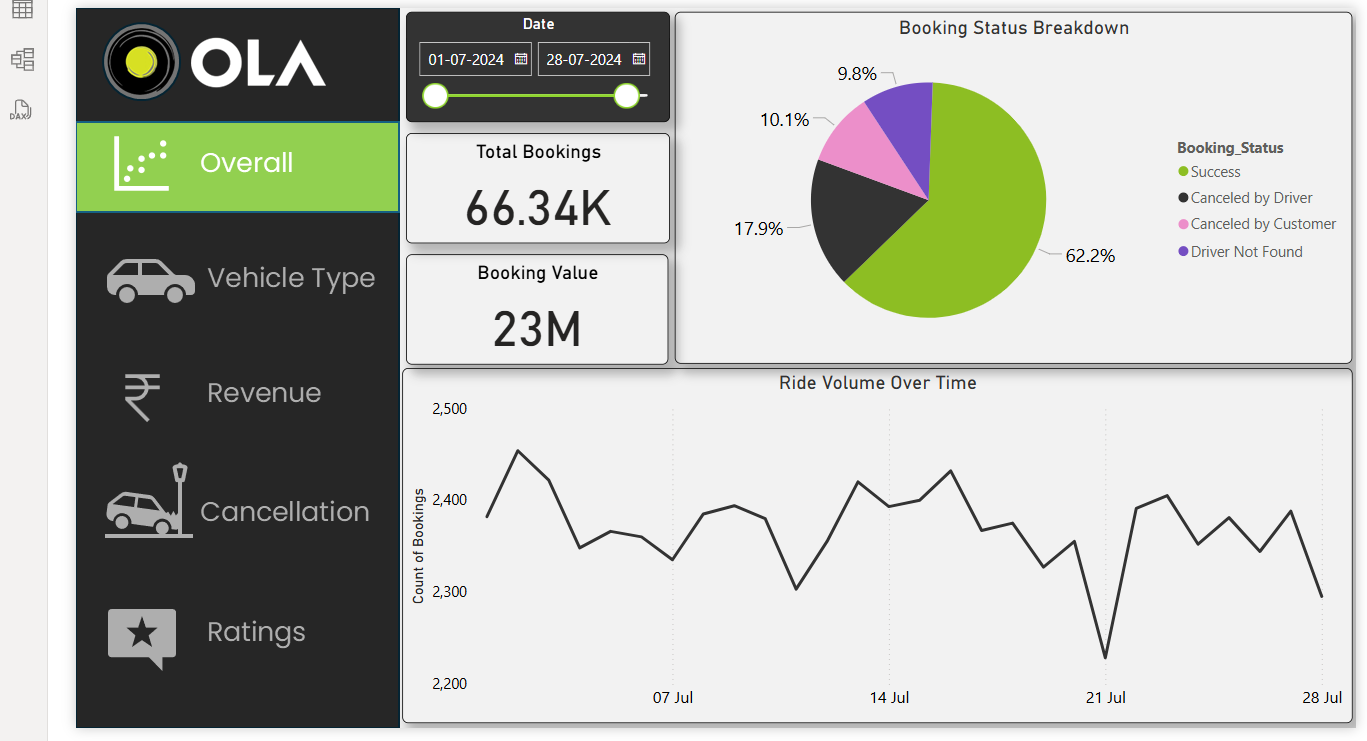

This screenshot's page, from the dashboard's own definition file:
{"tool":"powerbi","page":{"name":"Overall","canvas":[1280,720],"ordinal":0},"visuals":[{"type":"actionButton","box":[0,215.7,324.8,101.9],"z":0},{"type":"actionButton","box":[0,335.6,324.8,94.7],"z":1000},{"type":"actionButton","box":[0,445.8,324.8,103.1],"z":2000},{"type":"actionButton","box":[1.2,572.9,324.8,104.3],"z":3000},{"type":"lineChart","title":"Ride Volume Over Time","fields":{"Y":["CountNonNull(July.Booking_ID)"],"Category":["July.Date"]},"box":[326,360,950,354.9],"z":4000},{"type":"pieChart","title":"Booking Status Breakdown","fields":{"Category":["July.Booking_Status"],"Y":["CountNonNull(July.Booking_Status)"]},"box":[598.8,3.8,677.5,352],"z":5000},{"type":"slicer","title":"Date","fields":{"Values":["July.Date"]},"box":[330,3.8,263.8,110],"z":6000},{"type":"card","title":"Total Bookings","fields":{"Values":["CountNonNull(July.Booking_ID)"]},"box":[330,125,263.8,110],"z":7000},{"type":"card","title":"Booking Value","fields":{"Values":["Sum(July.Booking_Value)"]},"box":[330,246.2,262.5,110],"z":8000}]}

Visuals, with their boxes on the page's 1280x720 design canvas (x1, y1, x2, y2). These are canvas units, not pixel positions in the 1367x741 screenshot, which may show the page scaled, cropped or inside an application window:
actionButton: {"left": 0, "top": 216, "right": 325, "bottom": 318}
actionButton: {"left": 0, "top": 336, "right": 325, "bottom": 430}
actionButton: {"left": 0, "top": 446, "right": 325, "bottom": 549}
actionButton: {"left": 1, "top": 573, "right": 326, "bottom": 677}
"Ride Volume Over Time" lineChart: {"left": 326, "top": 360, "right": 1276, "bottom": 715}
"Booking Status Breakdown" pieChart: {"left": 599, "top": 4, "right": 1276, "bottom": 356}
"Date" slicer: {"left": 330, "top": 4, "right": 594, "bottom": 114}
"Total Bookings" card: {"left": 330, "top": 125, "right": 594, "bottom": 235}
"Booking Value" card: {"left": 330, "top": 246, "right": 592, "bottom": 356}
